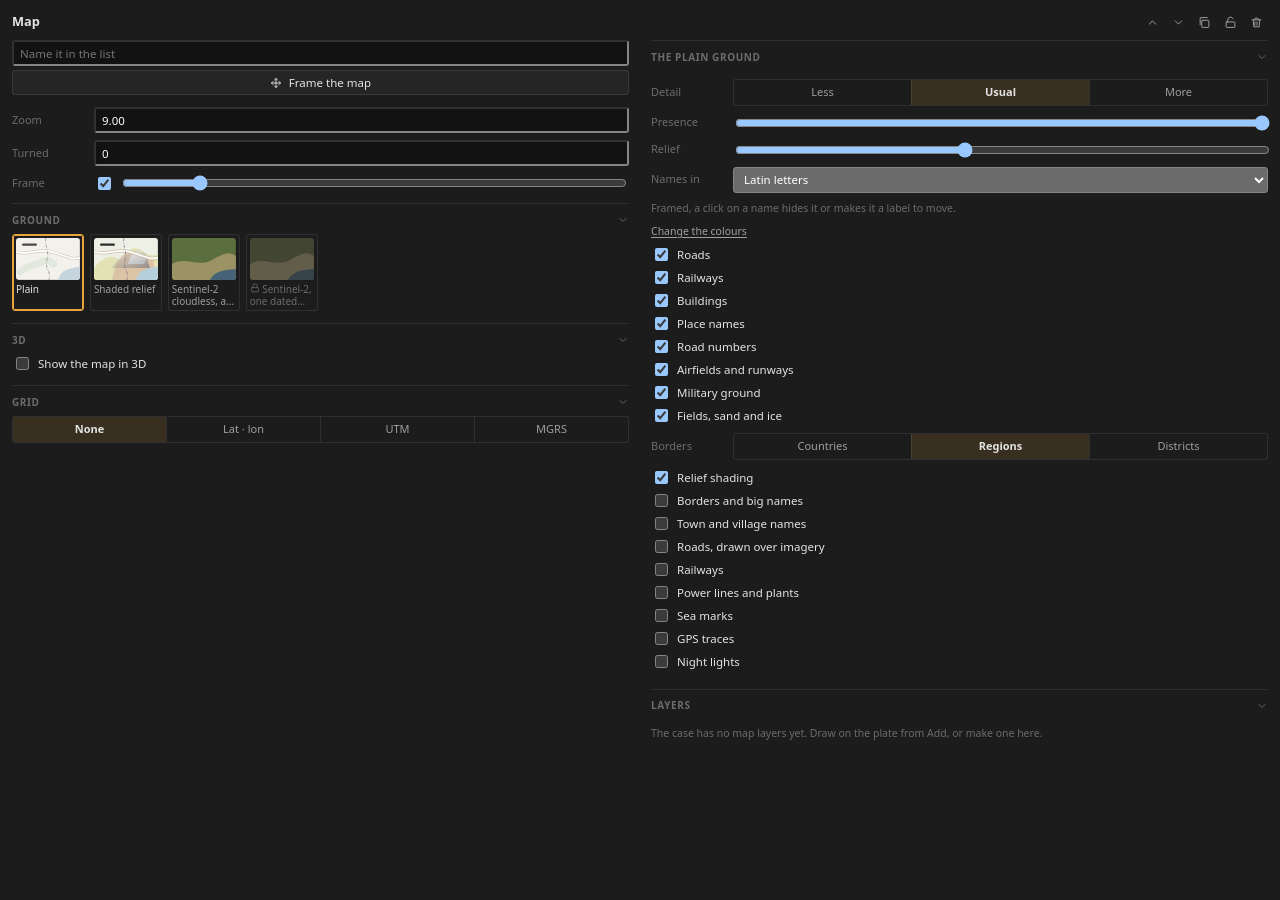
Scenario: the ground, the type and the layers of a plate › keeps Sentinel-2 in sight, locked, with the steps to a free account, while Copernicus is not set up
What coordinates should you click on to do the following:
click the button with class "locked"
I would click on:
 (282, 273)
Its box is [246, 234, 318, 311].
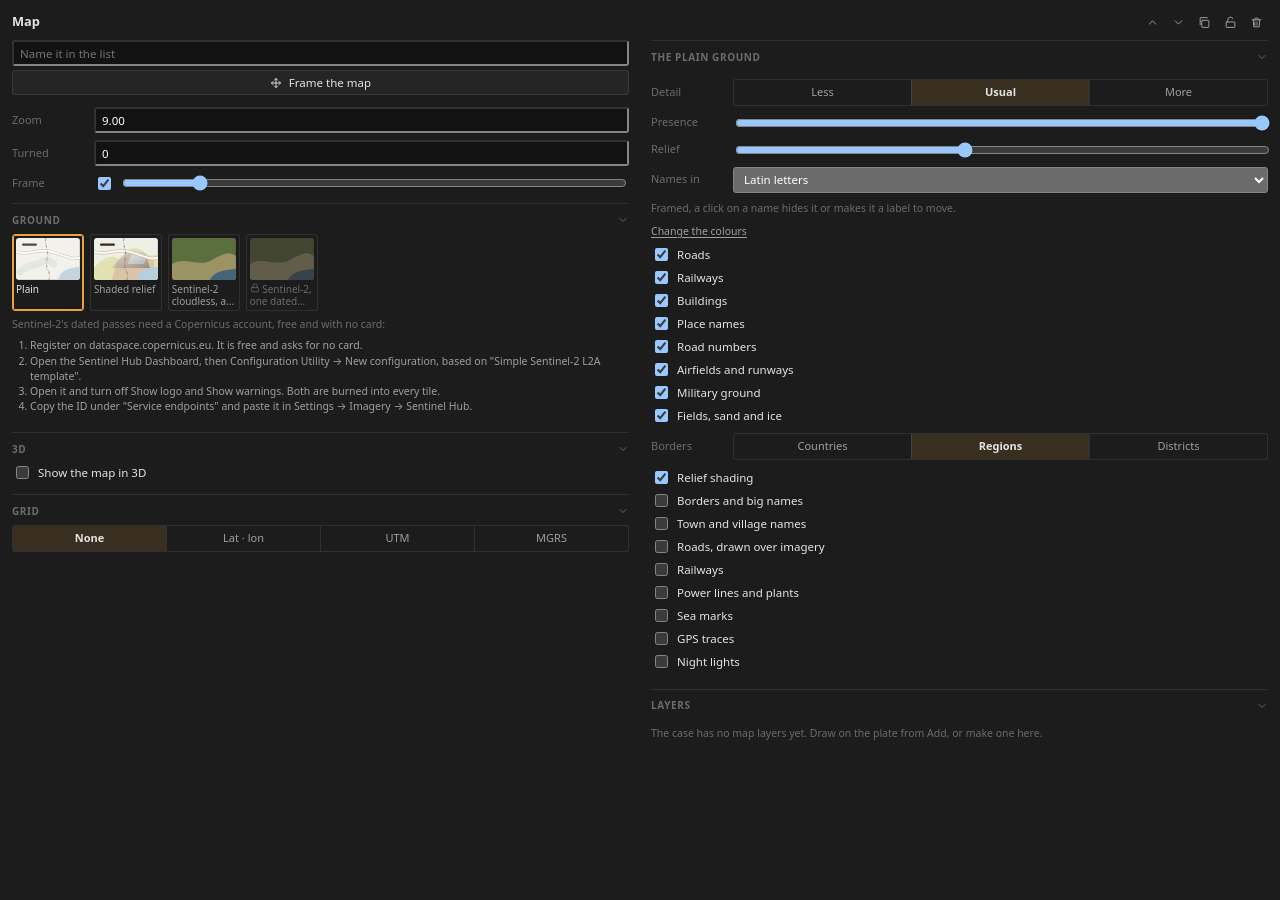
Expected: the list with class "setup" shows "dataspace.copernicus.eu", [30, 338, 362, 352]
Expected: the text "free and with no card" is shown, [12, 317, 385, 331]
